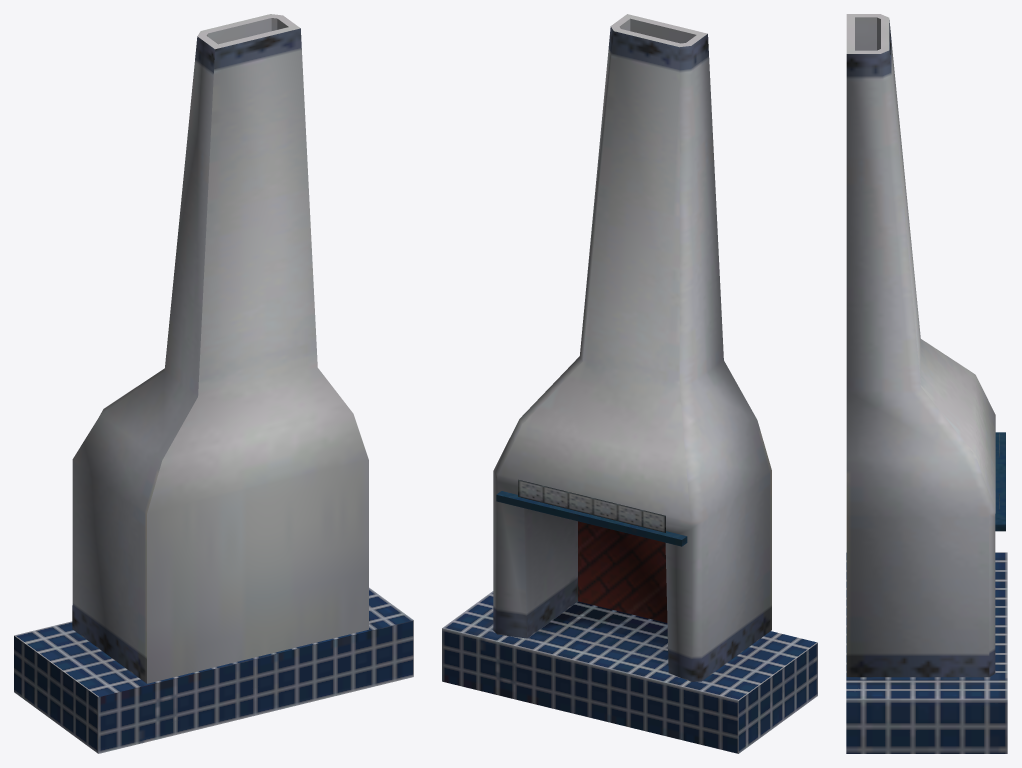
Rendered from furni_0200048_03.FBX.
3 views of the same model, side by side, from view 1: azimuth 30°, elevation 25°; view 2: azimuth 150°, elevation 25°; view 3: azimuth 270°, elevation 25° (orthographic). The views are drawn at different scales.
Visible parts, largest first — view 1: furni_0200048; view 2: furni_0200048; view 3: furni_0200048.
Boxes of the visible parts, box(x1,y1,x2,y2) form: furni_0200048: box(14, 14, 413, 753); furni_0200048: box(442, 14, 817, 753); furni_0200048: box(846, 14, 1007, 753).
Bounding box in the file's own units: 137 × 280 × 63.36.
